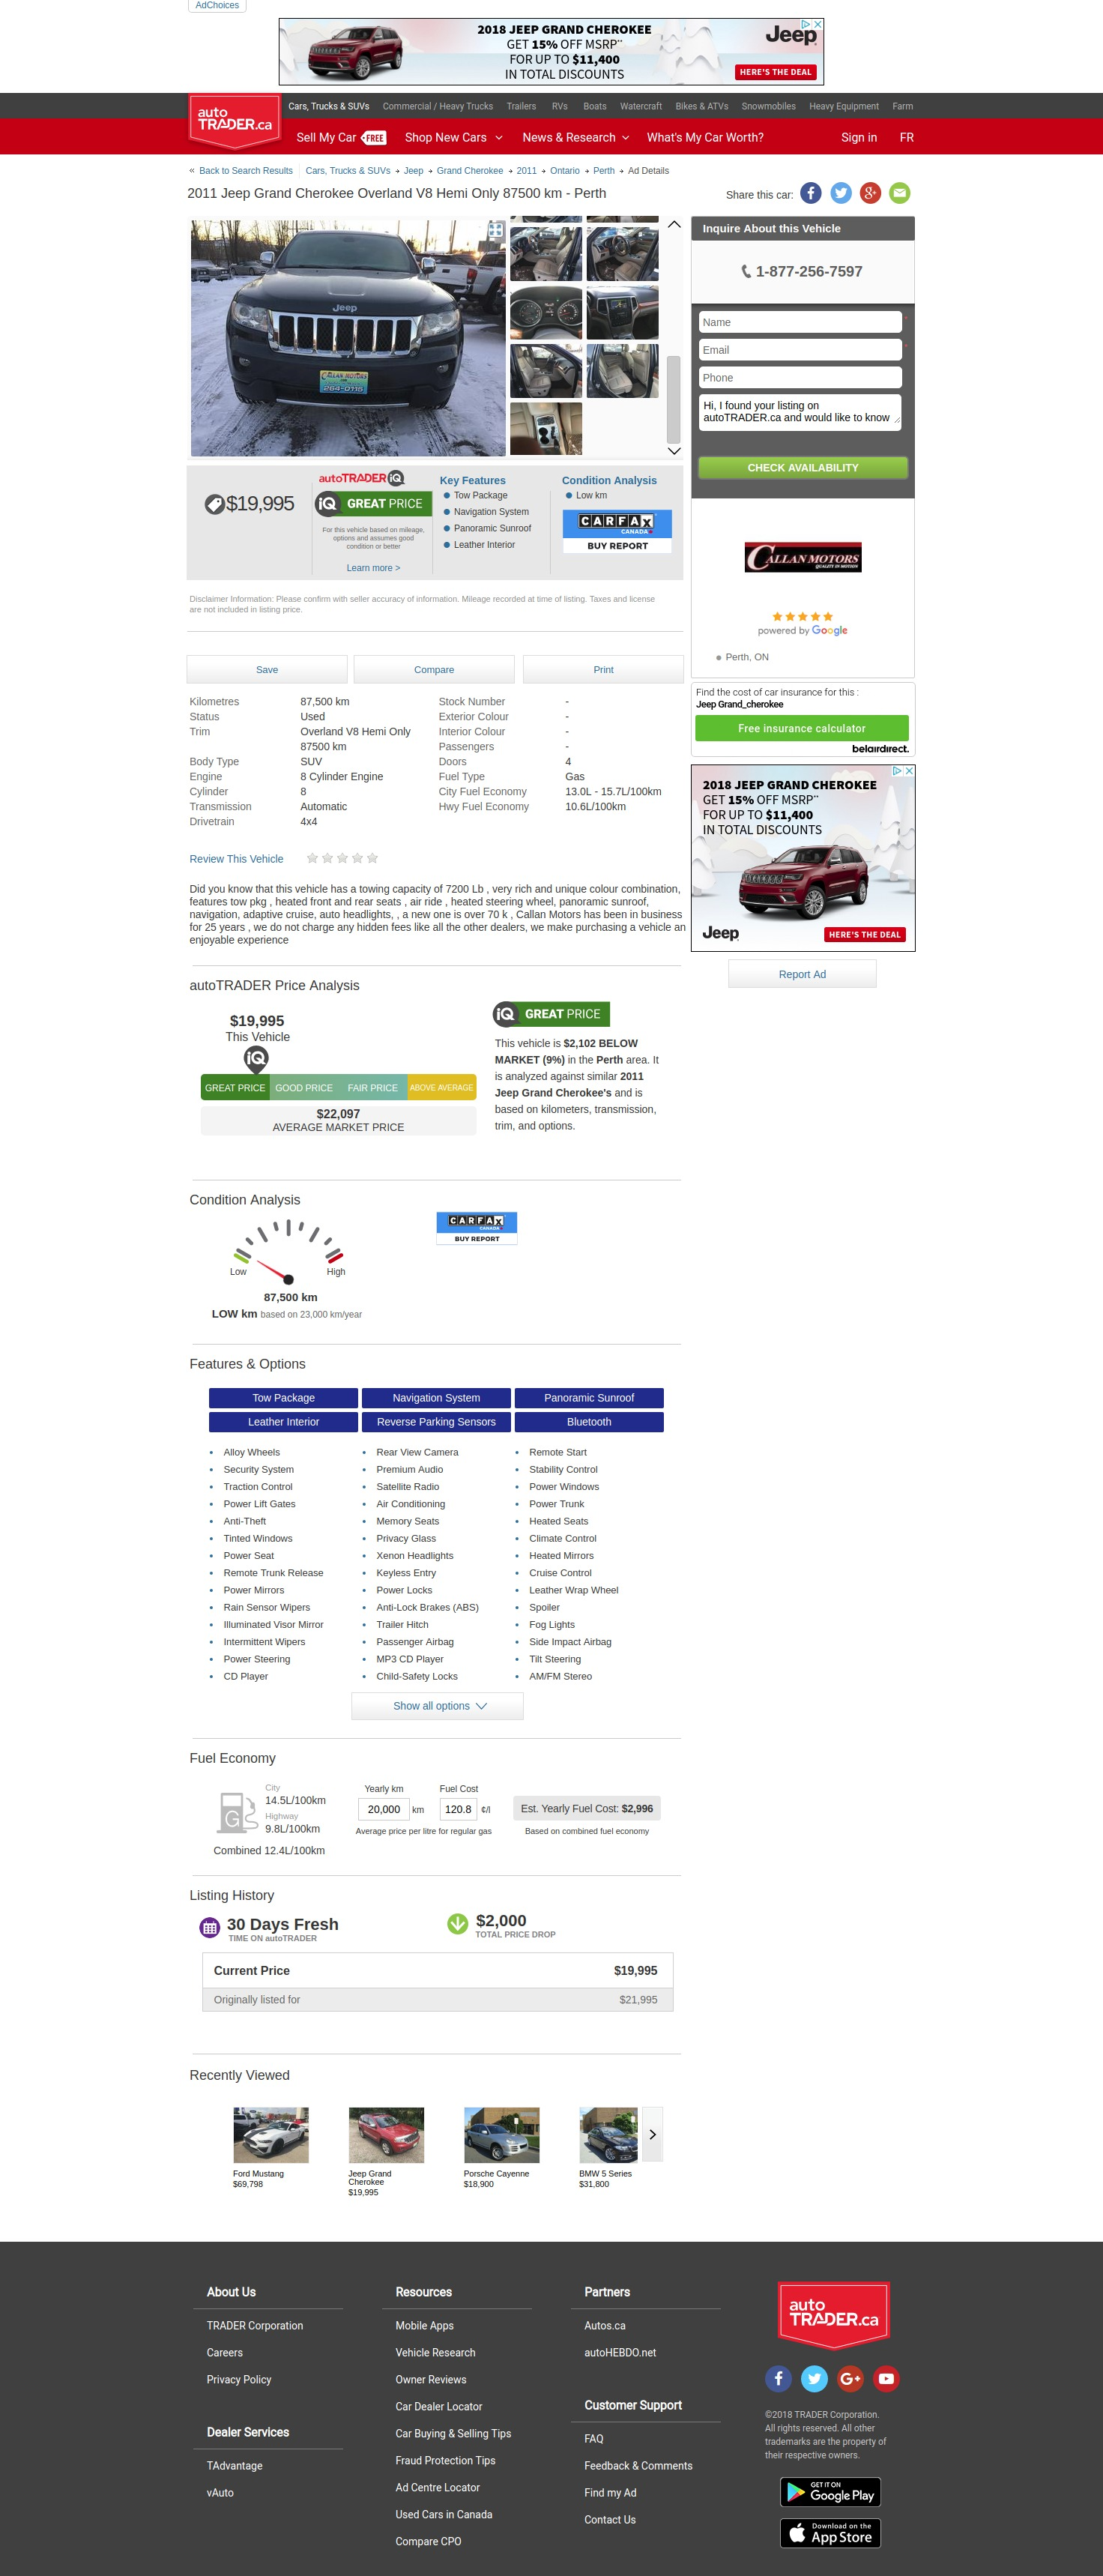car: (666, 447, 683, 457)
